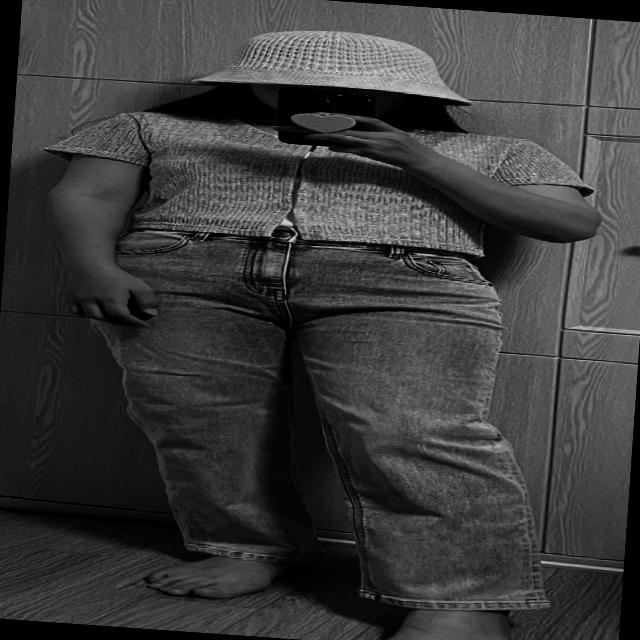cardigan: (38, 100, 596, 265)
denimpants: (64, 225, 576, 620)
